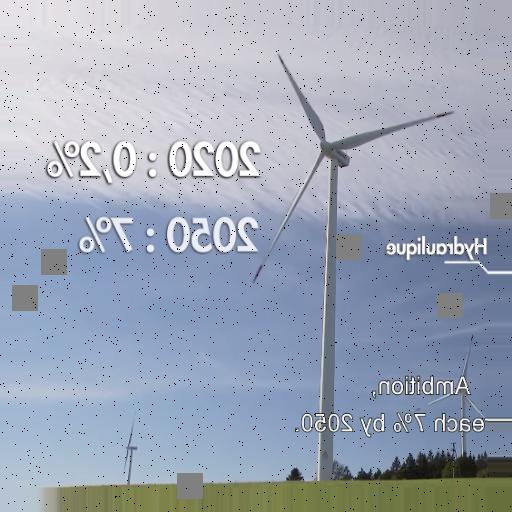wind turbine: (254, 55, 454, 485)
